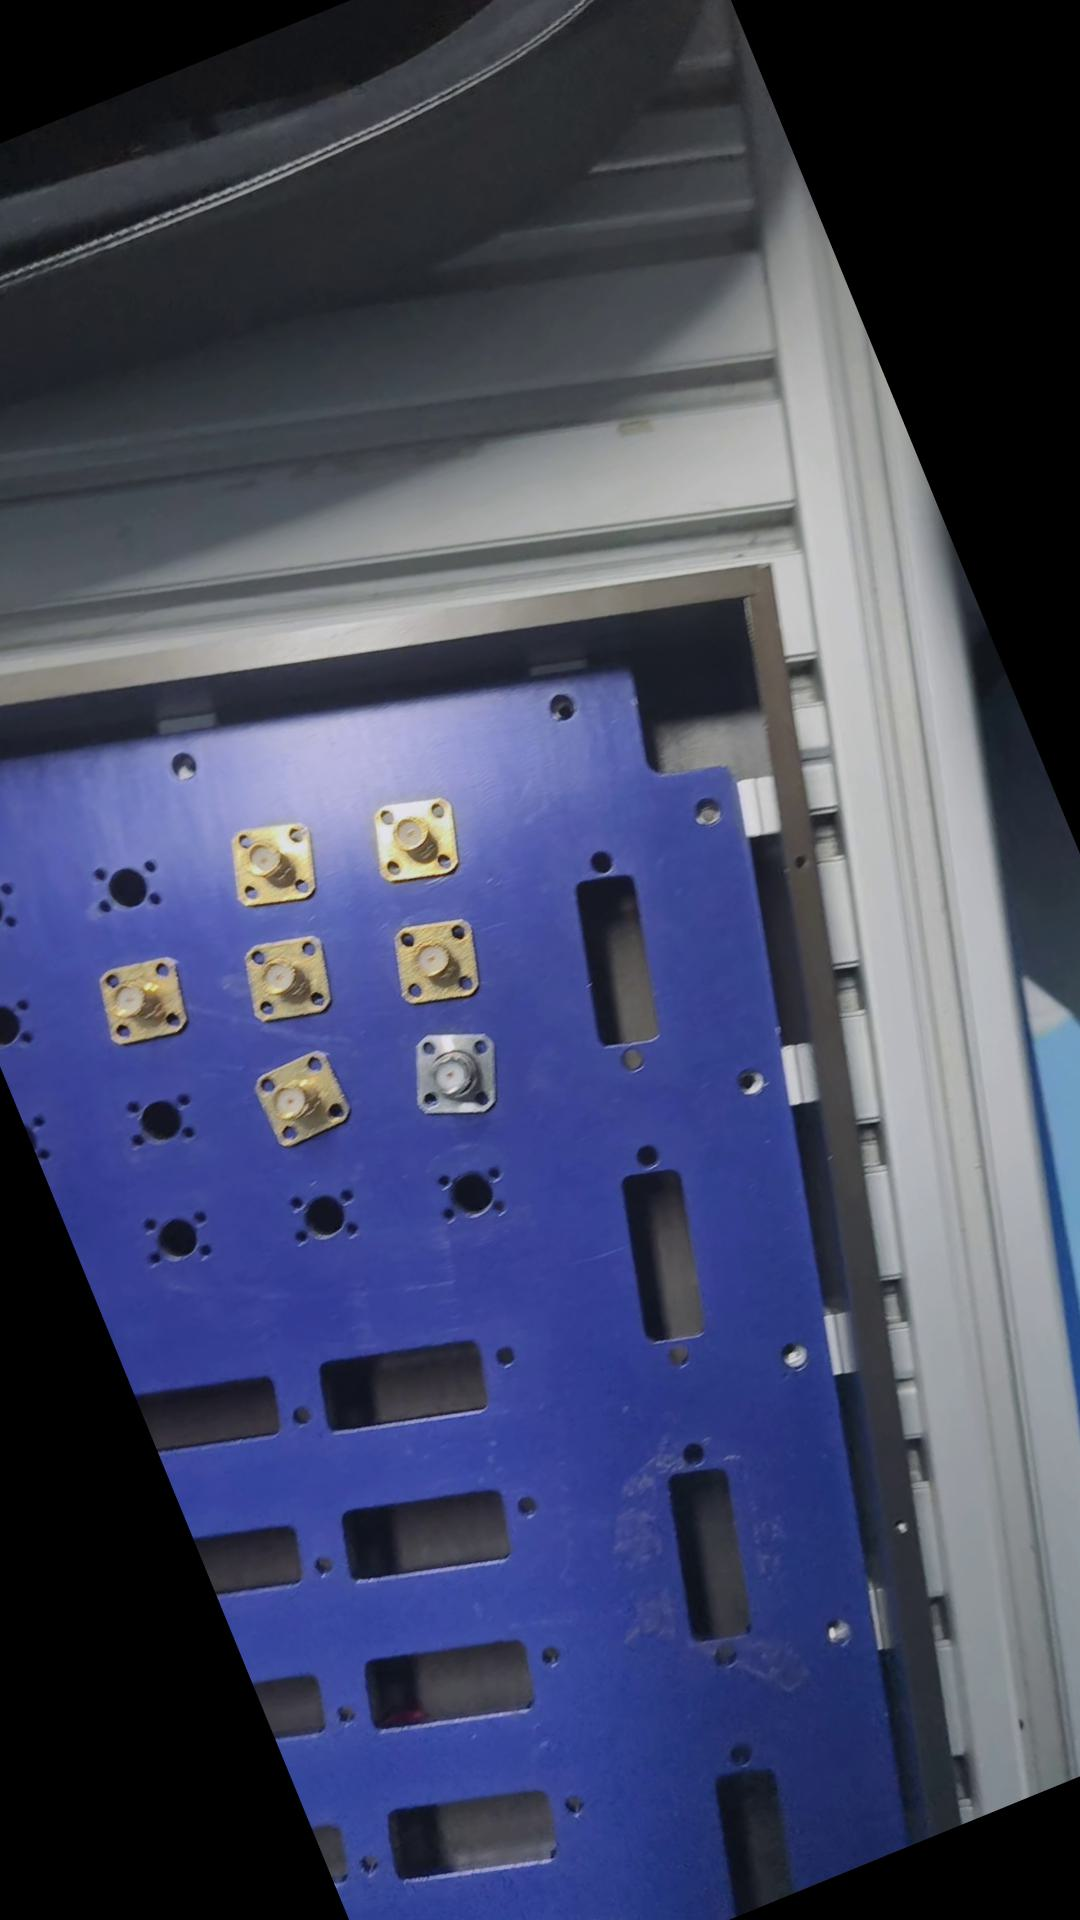SMA: (347, 781, 477, 903), (239, 1036, 361, 1162), (394, 1015, 516, 1135), (223, 920, 343, 1040), (376, 906, 497, 1022), (211, 807, 328, 924), (84, 945, 199, 1058)
